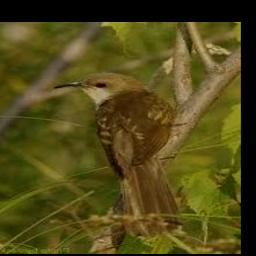Cuckoo: (54, 72, 186, 238)
